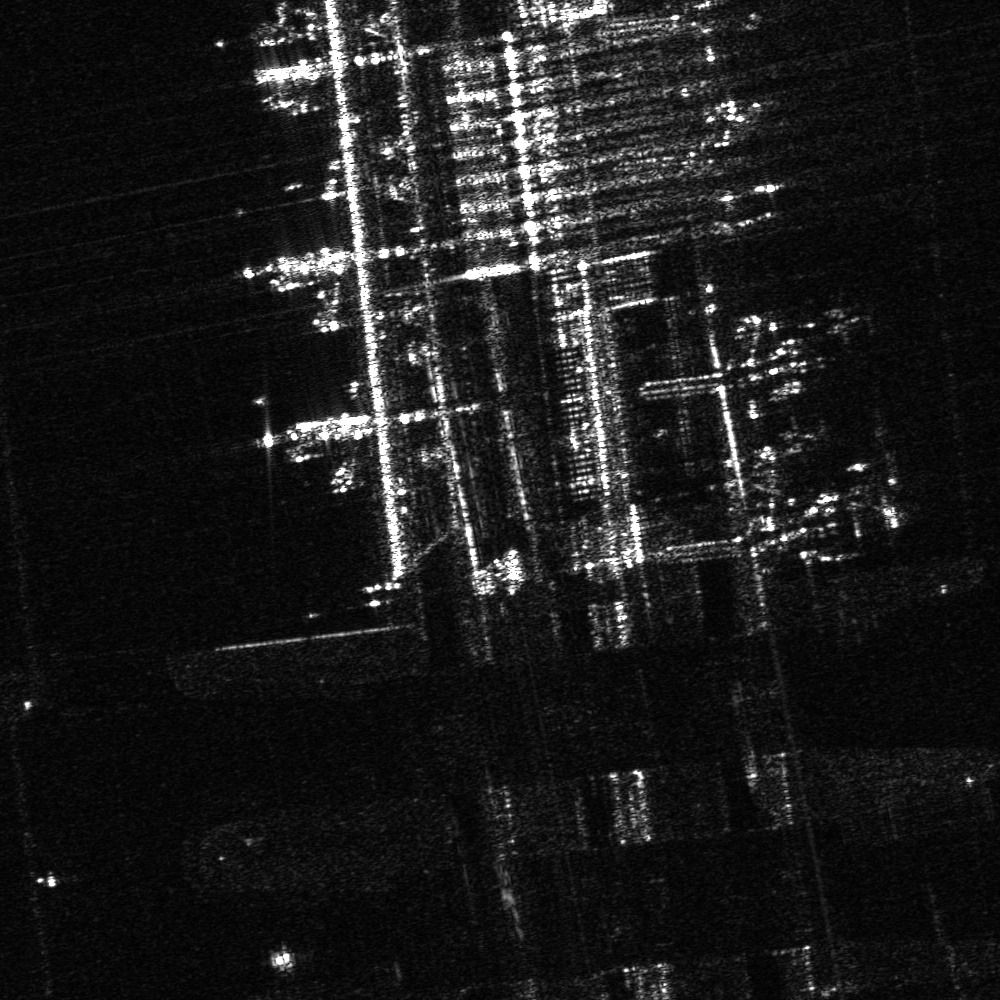Boeing737: (841, 476, 906, 540)
